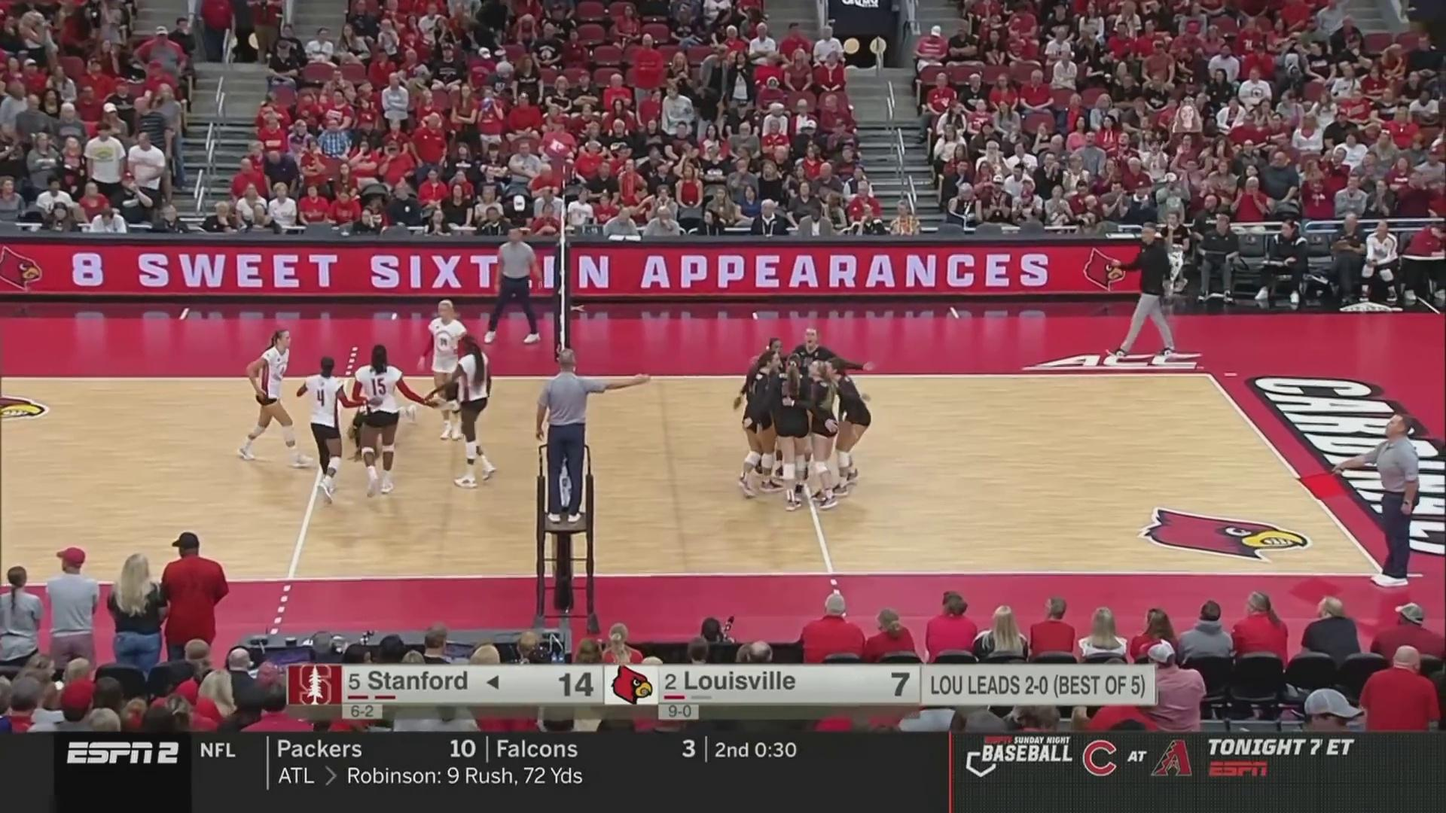player: (349, 348, 413, 497), (234, 334, 302, 469), (448, 337, 499, 489), (767, 353, 815, 512), (299, 356, 346, 503), (736, 353, 783, 496), (796, 322, 834, 484), (422, 302, 466, 439), (826, 362, 870, 498), (345, 383, 406, 465), (752, 335, 786, 479), (806, 361, 838, 509)
refree: (530, 348, 630, 520), (1344, 411, 1422, 589), (486, 226, 541, 342)
